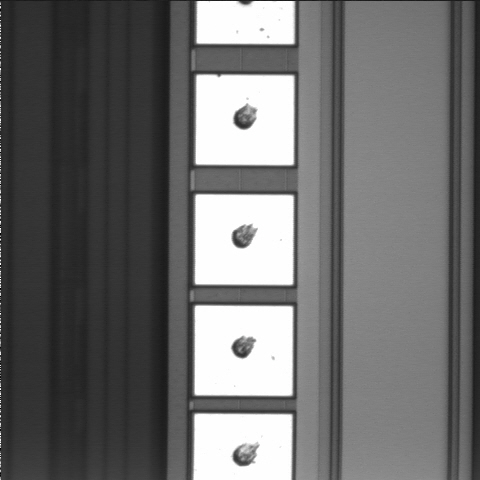pad: (195, 194, 293, 285), (196, 75, 294, 165), (195, 306, 293, 396)
